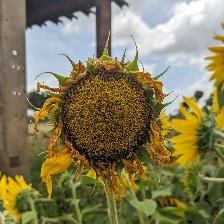sunflower: (29, 28, 181, 197), (174, 91, 216, 171), (1, 168, 37, 224), (206, 20, 224, 104)
